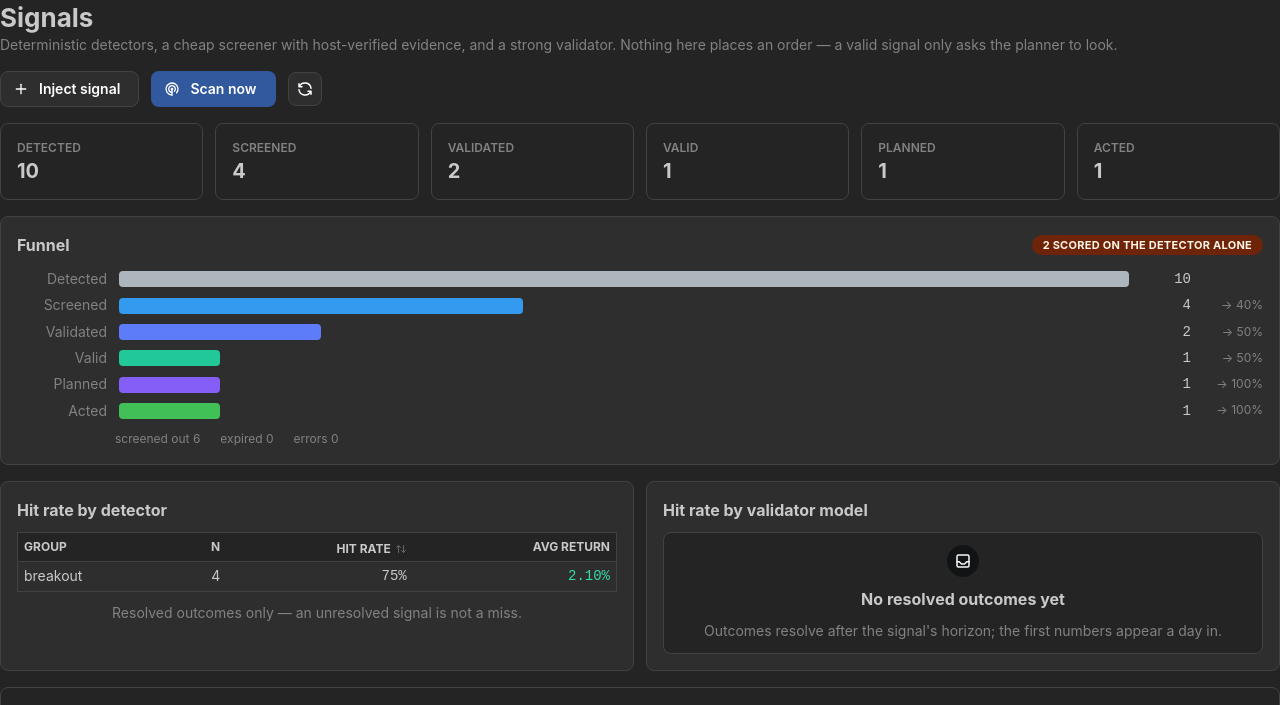
SignalsPage › explains that a manual signal does not skip the pipeline
Click the button "Inject signal".
click(70, 89)  # box [0,71,139,107]
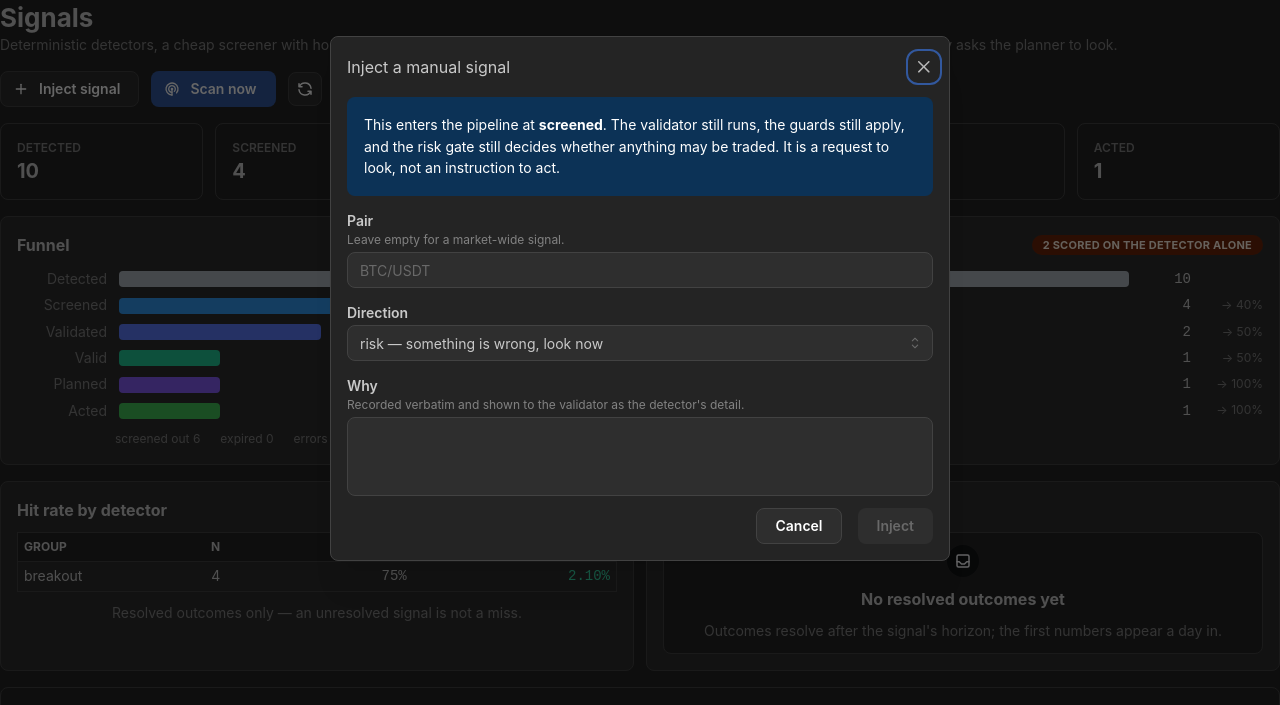
Check: the text "It is a request to look, not an instruction to act" is shown, box [364,116,905,176]
